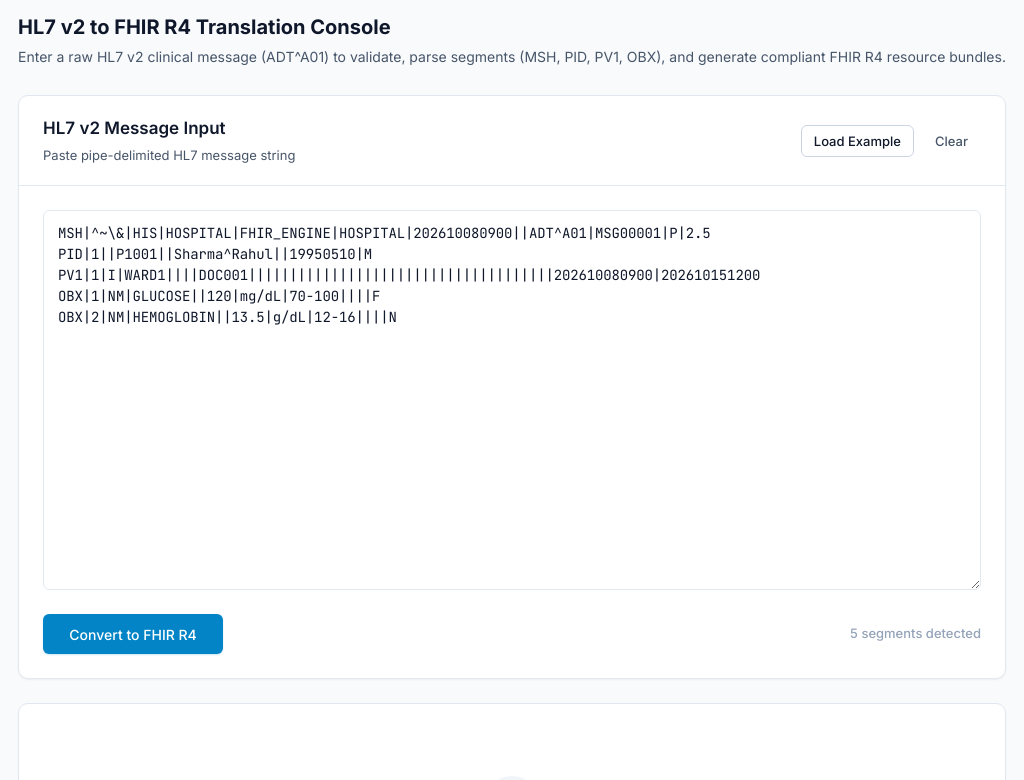
ConvertPage › handles conversion errors properly
Click the button "Convert to FHIR R4": (133, 634) [43,614,223,654]
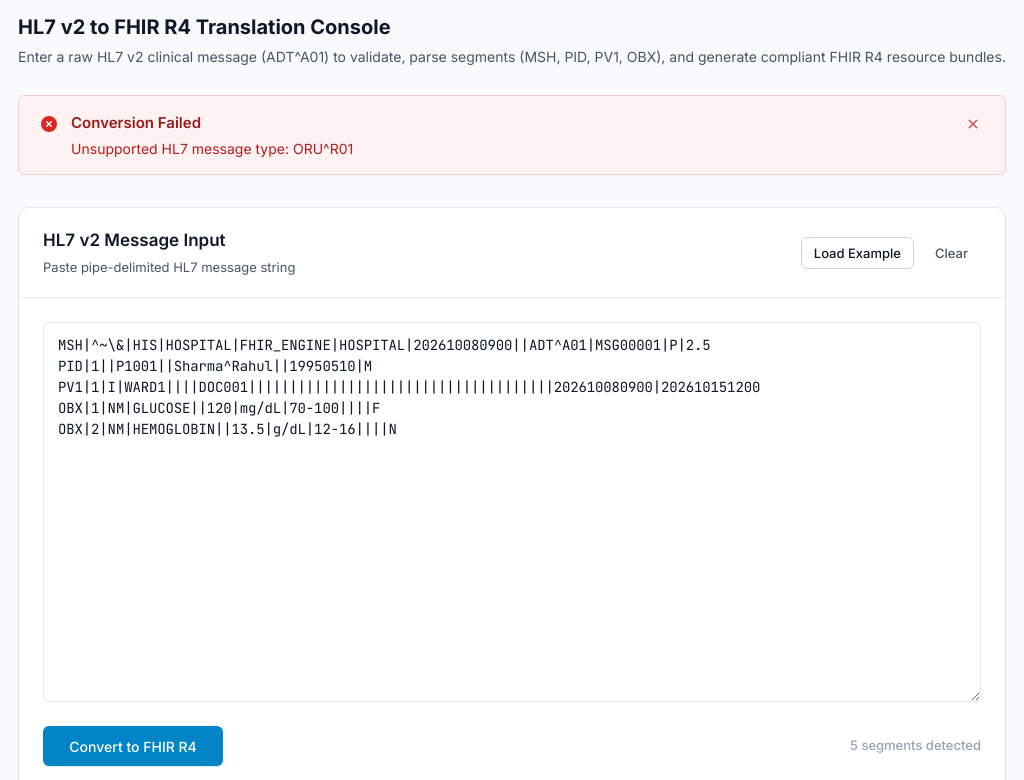
expect the text "Unsupported HL7 message type: ORU^R01" is shown: met, box [71,140,353,156]
